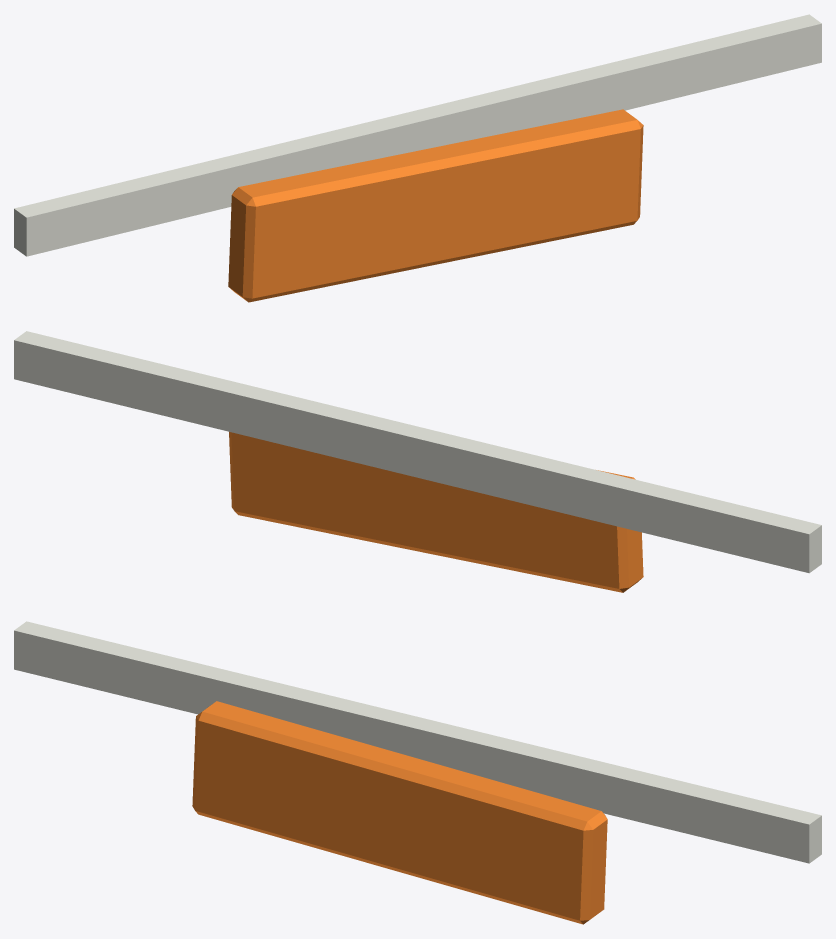
Rendered from slat_and_flap_kit.glb.
3 views of the same model, one above another, from view 1: azimuth 30°, elevation 25°; view 2: azimuth 150°, elevation 25°; view 3: azimuth 330°, elevation 25° (orthographic).
Visible parts, largest first — view 1: upgrade_wing_device, slat; view 2: slat, upgrade_wing_device; view 3: upgrade_wing_device, slat.
Part boxes in pixels (<box>): upgrade_wing_device: <box>228,109,643,302</box>; slat: <box>14,14,821,256</box>; slat: <box>14,331,821,573</box>; upgrade_wing_device: <box>229,432,643,592</box>; upgrade_wing_device: <box>192,701,607,924</box>; slat: <box>14,621,821,863</box>.
Bounding box in the file's own units: 2.56 × 0.4207 × 0.195.
